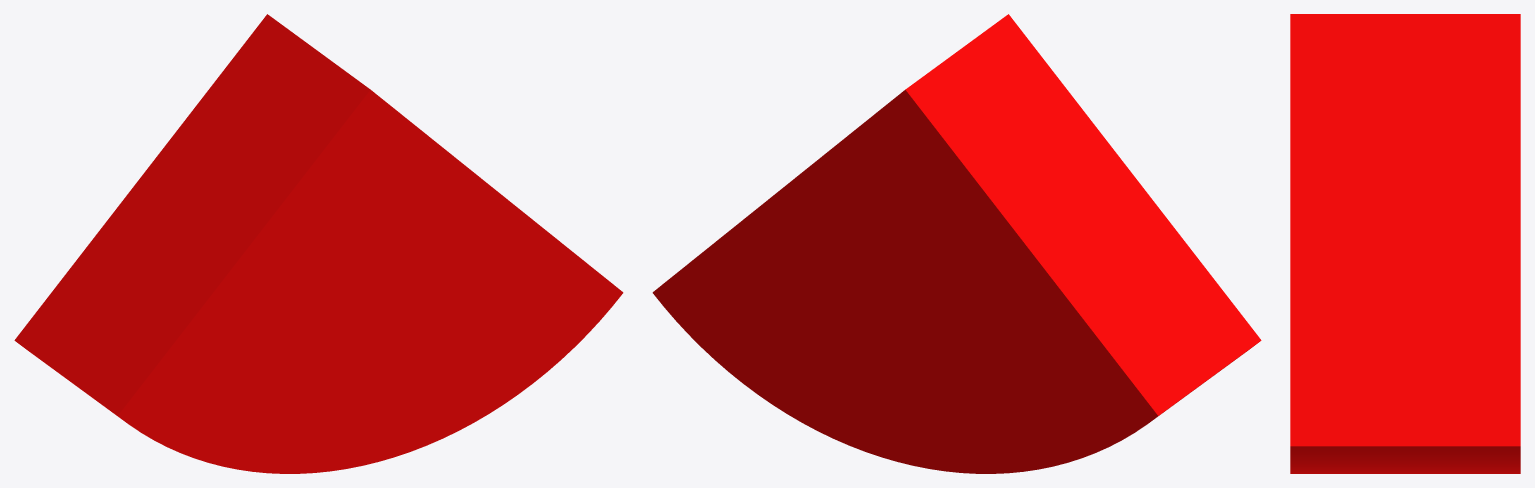
Rendered from redAttackRadius100.obj.
3 views of the same model, side by side, from view 1: azimuth 30°, elevation 25°; view 2: azimuth 150°, elevation 25°; view 3: azimuth 270°, elevation 25° (orthographic). The views are drawn at different scales.
Parts seen in each view (by area): view 1: ボディ1; view 2: ボディ1; view 3: ボディ1.
Part boxes in pixels (bbox=[...]): ボディ1: bbox=[14, 14, 623, 473]; ボディ1: bbox=[652, 14, 1261, 473]; ボディ1: bbox=[1290, 14, 1520, 473].
Size of the model in its own units: 141 by 99.97 by 50.
